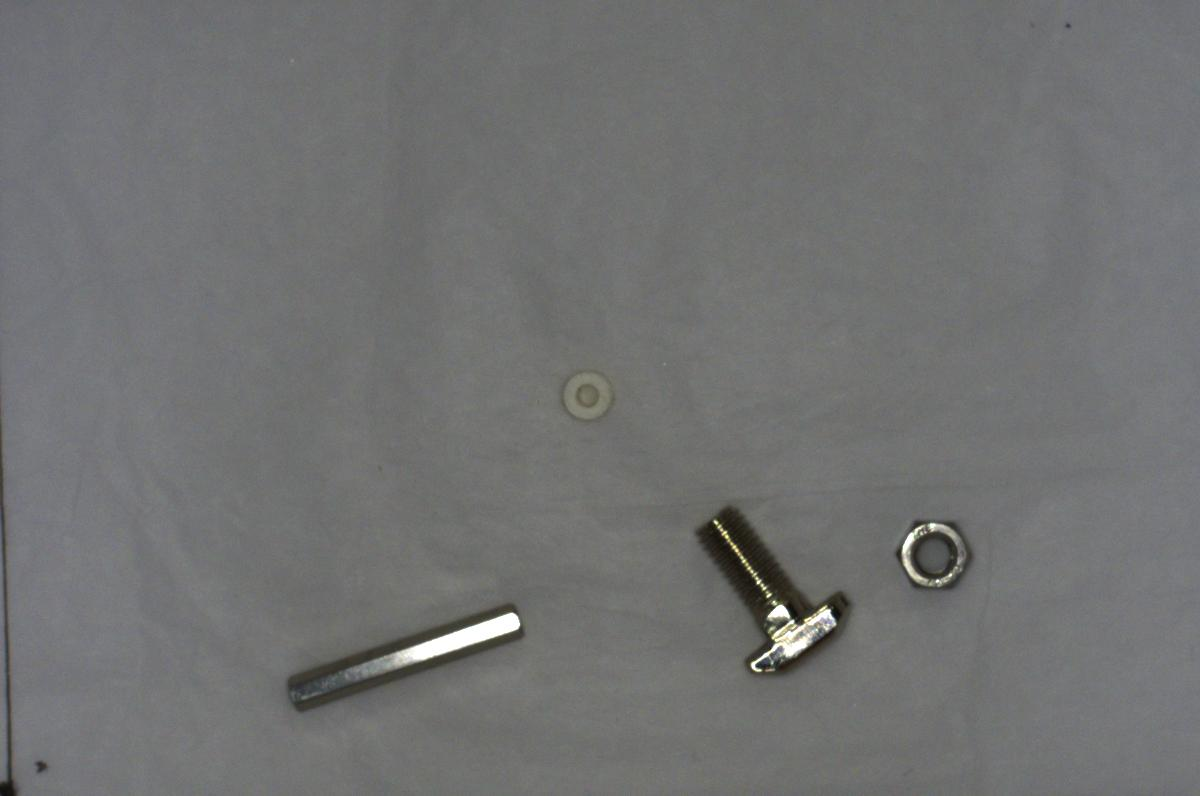Double hexagonal column: (273, 599, 530, 714)
Hexagon nut: (885, 503, 980, 601)
Plastic cushion pillar: (552, 360, 627, 429)
T-shaped screw: (687, 502, 854, 690)
